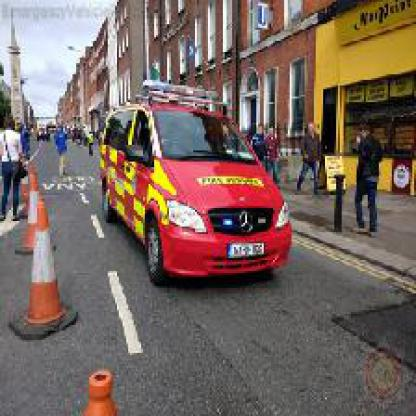emergency: (99, 76, 298, 280)
